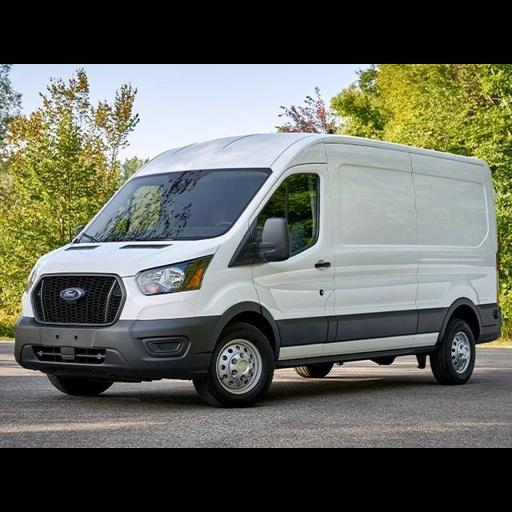van: (11, 130, 505, 410)
